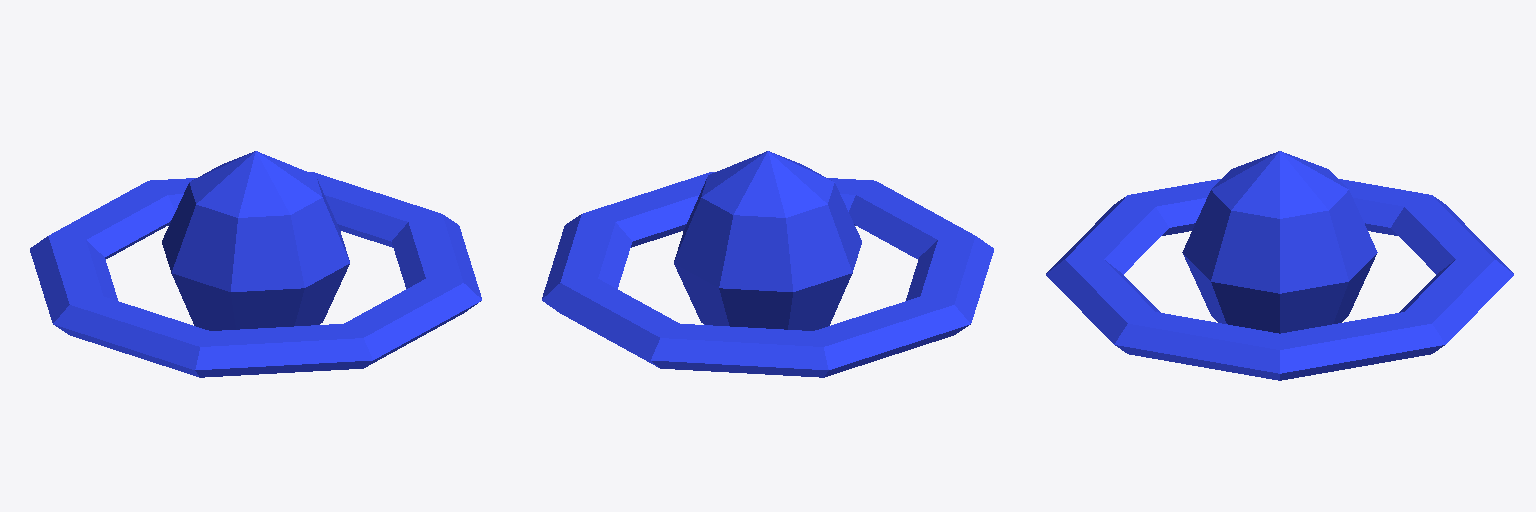
Rendered from pcrystal.obj.
The picture shows the model from 3 angles: view 1: azimuth 30°, elevation 25°; view 2: azimuth 150°, elevation 25°; view 3: azimuth 270°, elevation 25°; orthographic projection.
Parts seen in each view (by area): view 1: earea:pSphere1 earea:pTorus1, earea:pSphere1; view 2: earea:pSphere1 earea:pTorus1, earea:pSphere1; view 3: earea:pSphere1 earea:pTorus1, earea:pSphere1.
Boxes of the visible parts, x1=… form: earea:pSphere1 earea:pTorus1: x1=30, y1=172, x2=481, y2=377; earea:pSphere1: x1=162, y1=151, x2=349, y2=330; earea:pSphere1 earea:pTorus1: x1=542, y1=172, x2=993, y2=377; earea:pSphere1: x1=674, y1=151, x2=861, y2=330; earea:pSphere1 earea:pTorus1: x1=1046, y1=179, x2=1513, y2=380; earea:pSphere1: x1=1182, y1=151, x2=1377, y2=333.
Bounding box in the file's own units: 2.4 × 1.19 × 2.4.